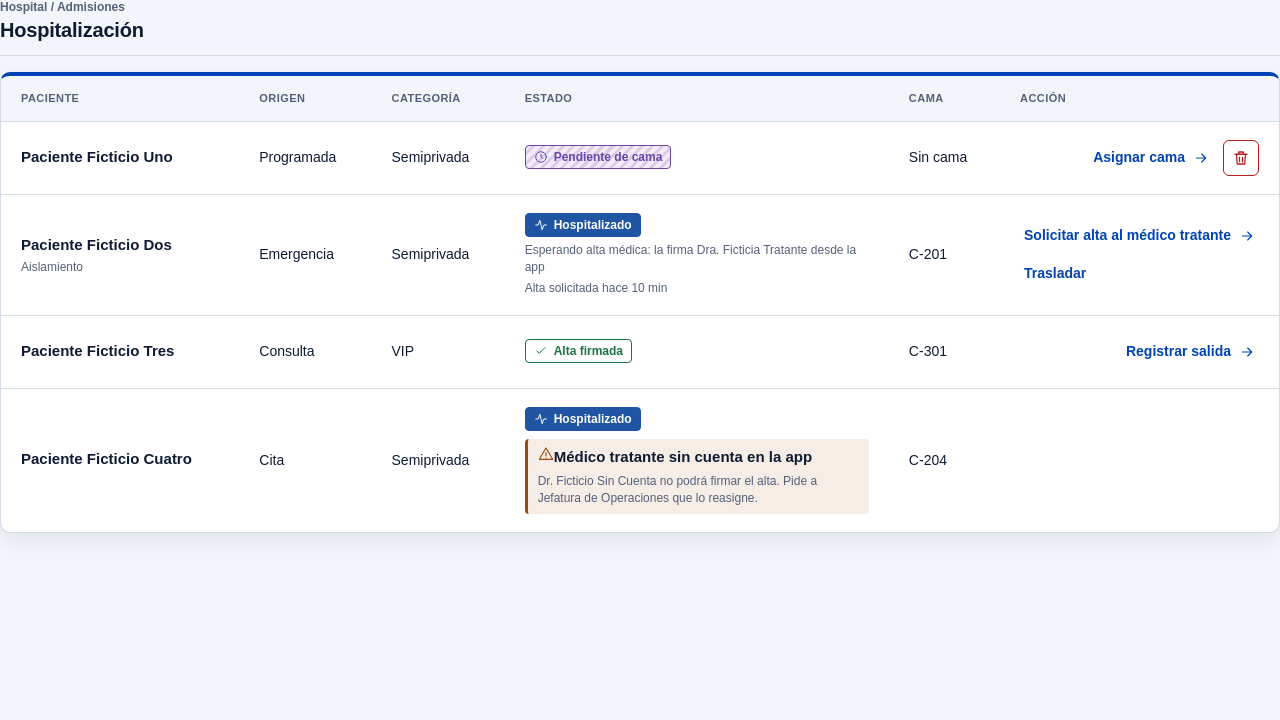
Scenario: W13 · admisiones con acciones según allowedActions (D-02) › muestra en español un cambio de estado (transicion_invalida), no el texto del servidor
Click the button named "Cancelar admisión" at {"x": 1241, "y": 158}, box [1223,140,1259,176]
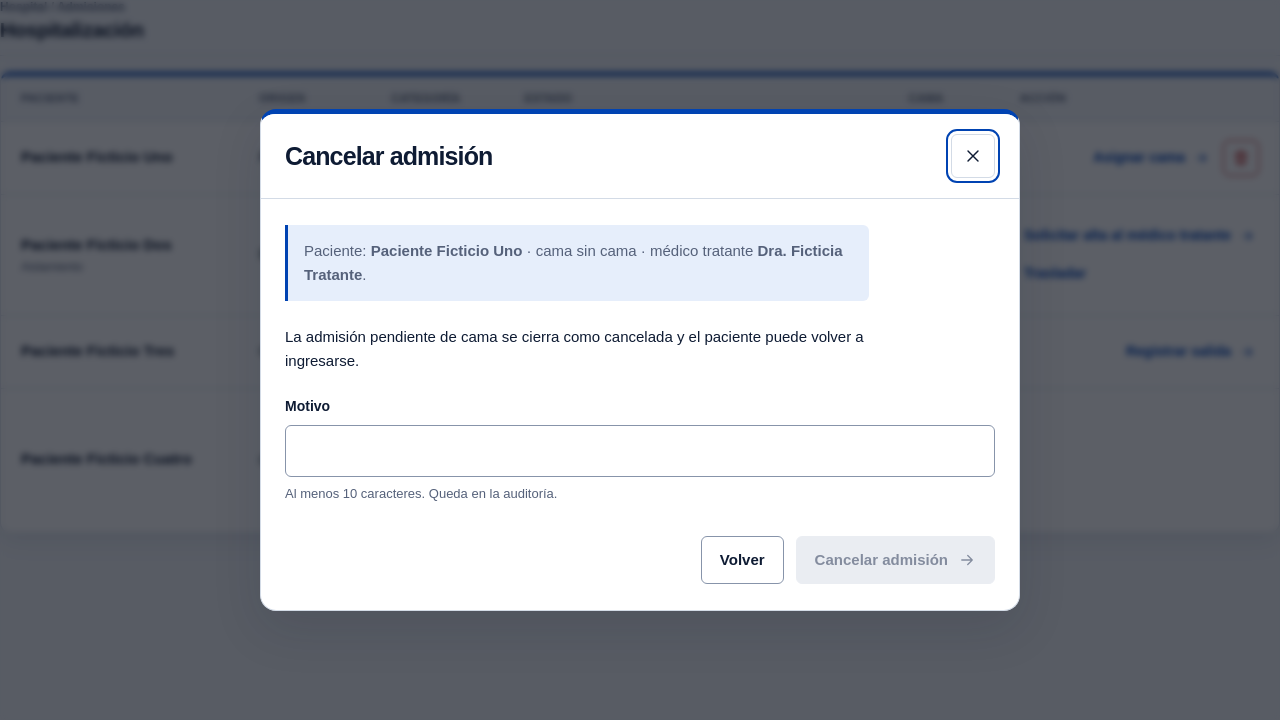
Type "Paciente decidió no ingresar." into the field labelled "Motivo" at {"x": 640, "y": 451}, box [285,425,995,477]
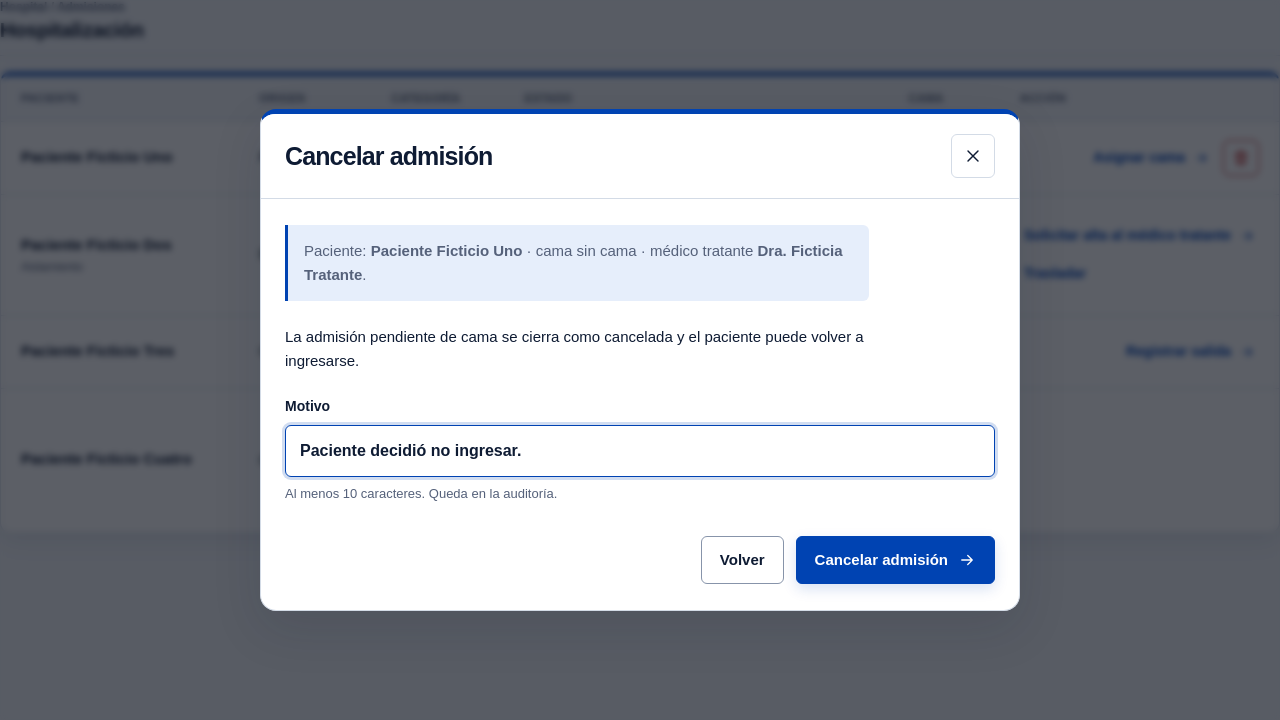
Click the button "Cancelar admisión" at {"x": 895, "y": 560}, box [796,536,995,584]
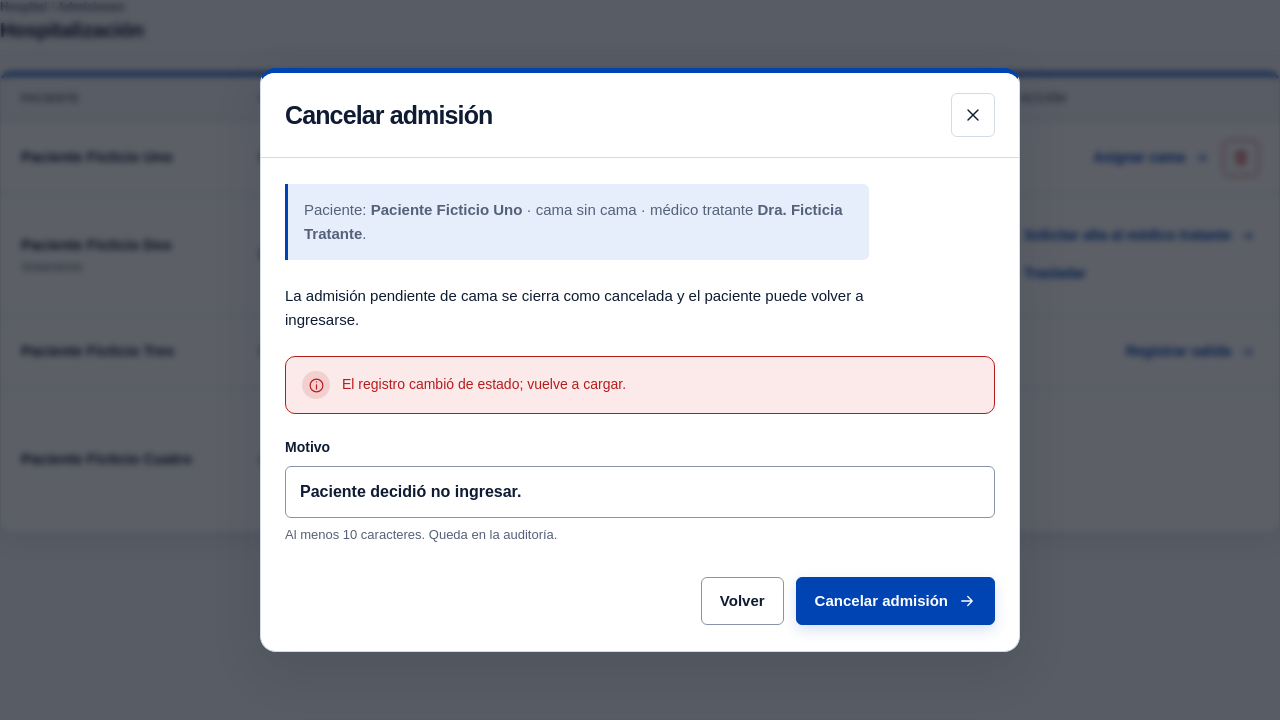
Now the text "El registro cambió de estado; vuelve a cargar." is shown, box [342,371,626,396]
